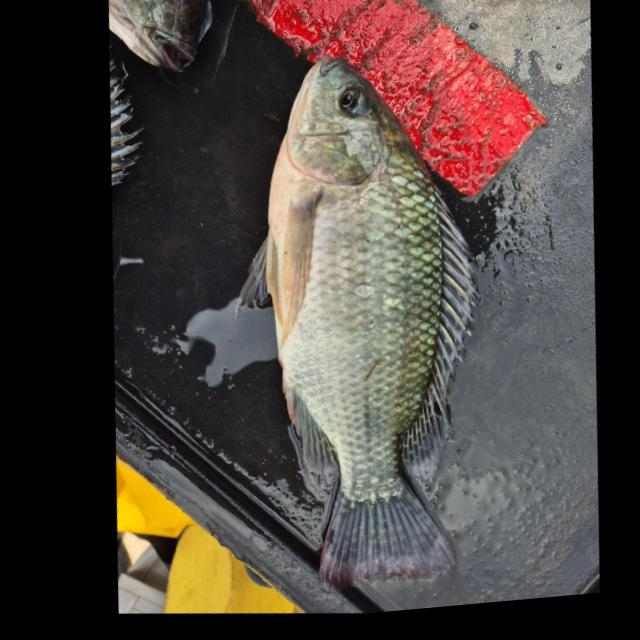Tilapia: (183, 33, 530, 610)
